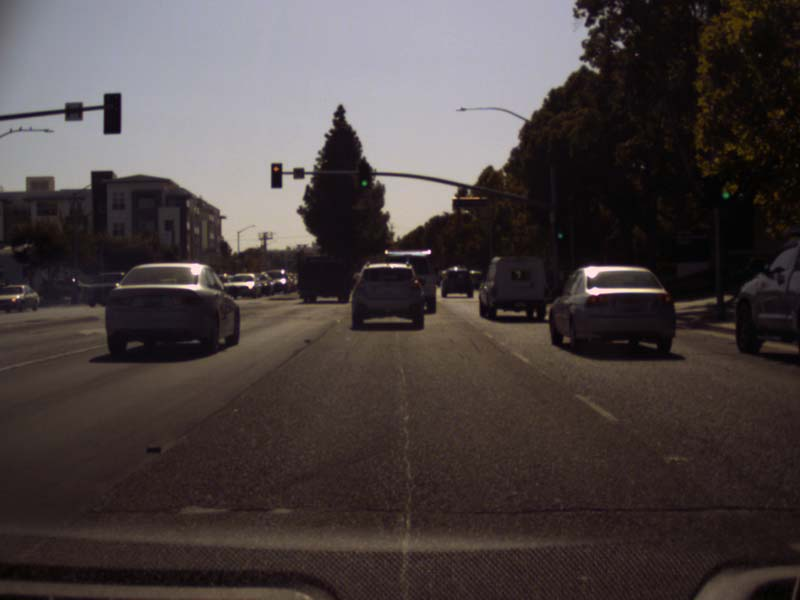Green: (358, 163, 370, 188), (554, 220, 564, 240), (718, 187, 731, 202)
Red: (271, 163, 281, 188)
